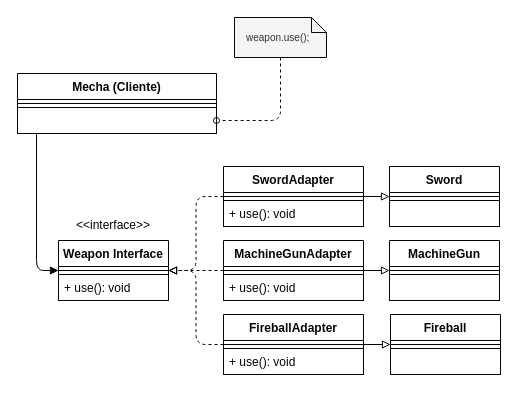
This 518x395 diagram has some shape labels left out. The centre of each missing label's shape, as x and y in pixels:
"+ attack(weapon: Weapon): void" goes at pixel 116 120.
"+ burn(): void" goes at pixel 445 361.
"+ fire(): void" goes at pixel 444 287.
"+ slash(): void" goes at pixel 444 213.
